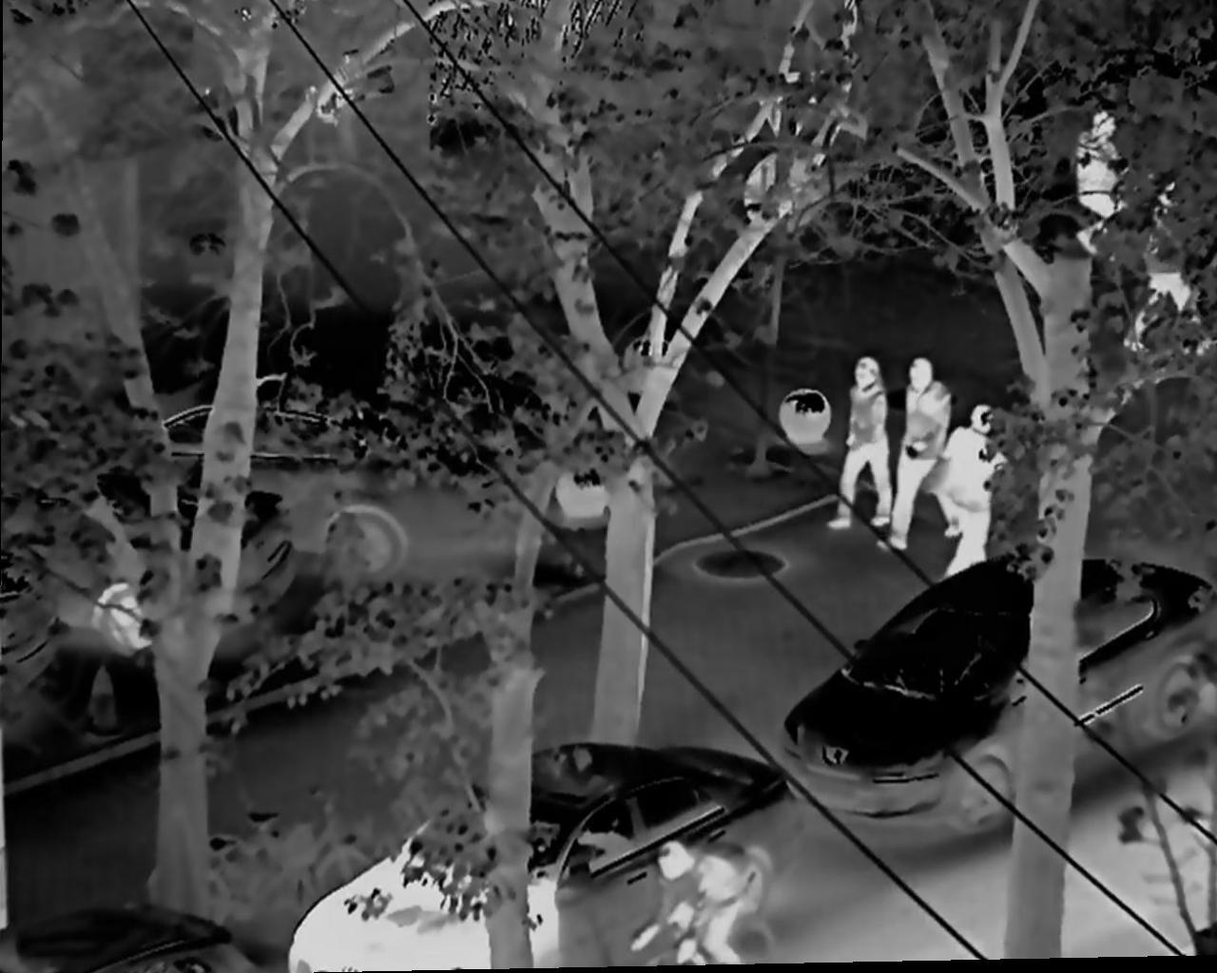person: (1124, 176, 1206, 356), (884, 359, 952, 557), (823, 358, 893, 531), (653, 842, 744, 963), (943, 406, 1005, 582), (1066, 107, 1124, 257)
